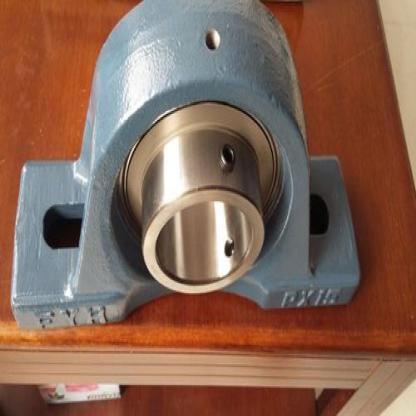FOD: (113, 81, 280, 302)
